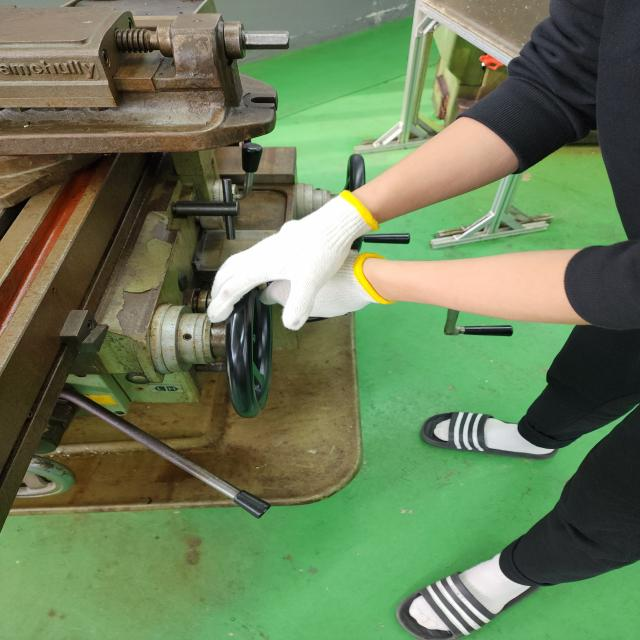Boots: (271, 188, 380, 324)
